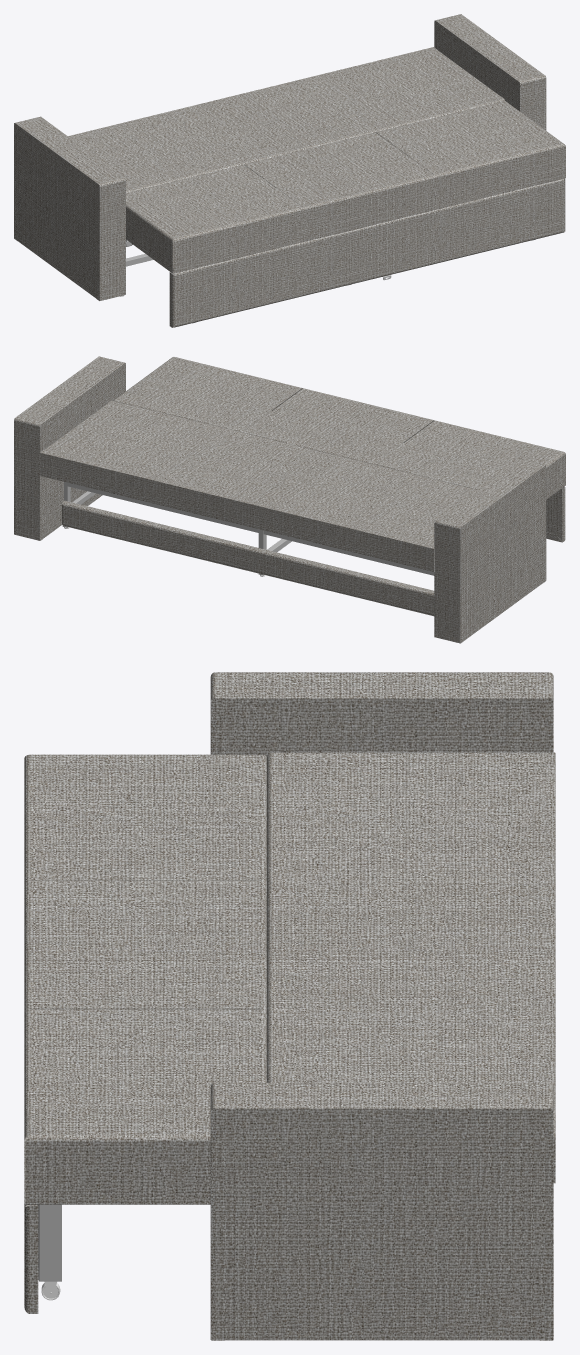
3 renders of one model, top to bottom at view 1: azimuth 30°, elevation 25°; view 2: azimuth 150°, elevation 25°; view 3: azimuth 270°, elevation 25°, orthographic. The views are drawn at different scales.
Visible parts, largest first — view 1: 4, 6, 5, 2; view 2: 6, 2 (×2), 4, 5; view 3: 2 (×2), 4, 6, 5.
Boxes of the visible parts, bbox=[...] form: 4: bbox=[126, 101, 565, 273]; 6: bbox=[68, 47, 504, 192]; 5: bbox=[169, 178, 565, 327]; 2: bbox=[14, 14, 546, 300]; 6: bbox=[40, 400, 476, 616]; 2 (×2): bbox=[14, 356, 561, 643]; 4: bbox=[113, 357, 565, 499]; 5: bbox=[546, 486, 565, 542]; 2 (×2): bbox=[38, 672, 553, 1340]; 4: bbox=[24, 754, 266, 1204]; 6: bbox=[267, 752, 555, 1183]; 5: bbox=[24, 1204, 38, 1313].
Bounding box in the file's own units: 2.21 × 0.5746 × 1.14.
Materials: 3 (1 with a texture image).
